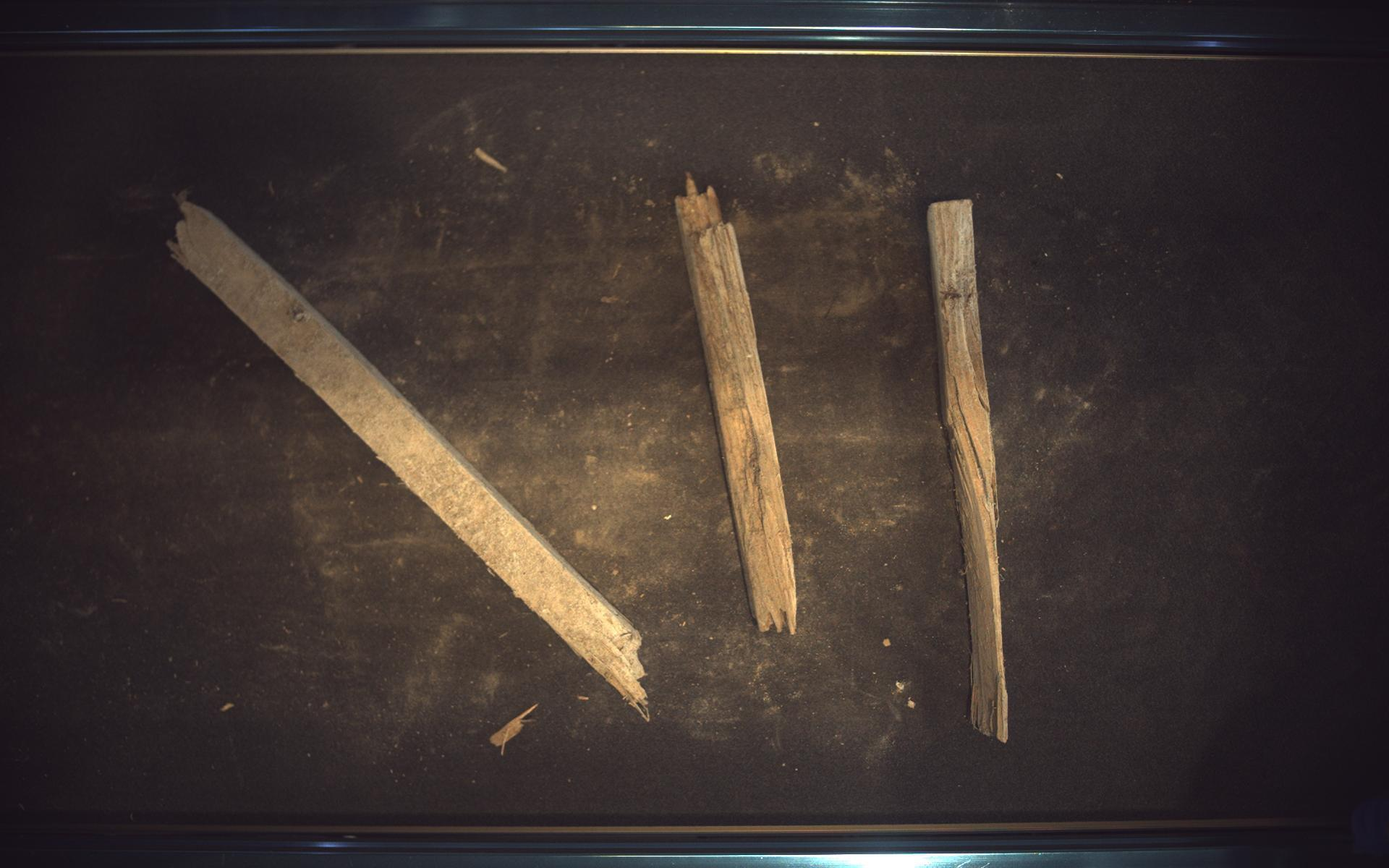wood: (168, 195, 650, 721), (676, 174, 798, 634), (930, 199, 1011, 743)
